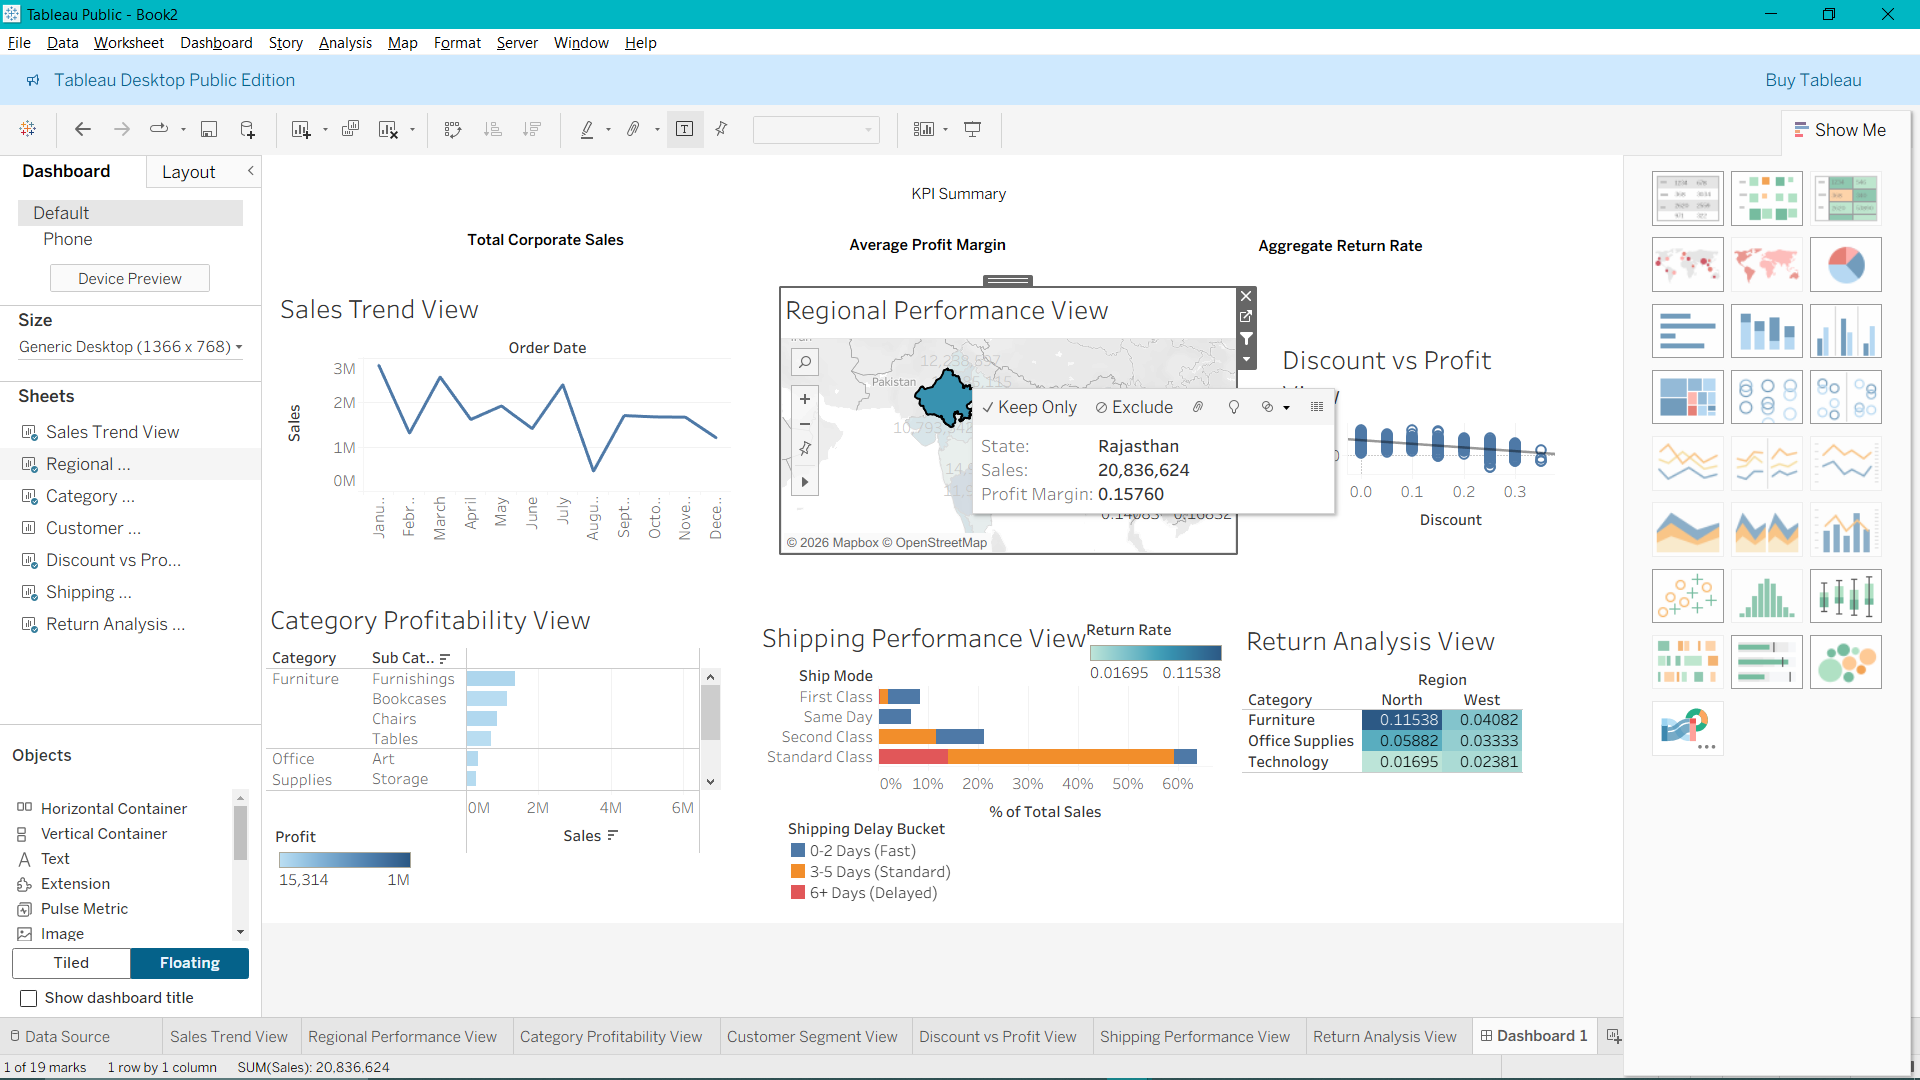

The dashboard page shown, as its layout file describes it:
{"tool":"tableau","page":{"name":"Dashboard 1","canvas":[1366,768],"ordinal":0},"visuals":[{"type":"text","box":[8,8,1350,752]},{"type":"text","box":[646,23,102,30]},{"type":"text","box":[202,70,164,30]},{"type":"text","box":[584,75,164,30]},{"type":"text","box":[993,76,171,30]},{"type":"worksheet","title":"Sales Trend View","mark":"Automatic","rows":["sales"],"cols":["order_date"],"box":[14,132,455,256]},{"type":"worksheet","title":"Regional Performance View","mark":"Automatic","box":[519,133,455,265]},{"type":"worksheet","title":"Discount vs Profit View","mark":"Automatic","rows":["Calculation_1286171301912577"],"cols":["discount"],"box":[1016,183,277,199]},{"type":"legend","title":"Regional Performance View","param":"[federated.1fp9yx91cpcbyr1d26n7z1mhaju0].[usr:Calculation_1286171301912577:qk]","box":[835,305,140,88]},{"type":"worksheet","title":"Category Profitability View","mark":"Automatic","rows":["category","sub_category"],"cols":["sales"],"box":[4,443,455,256]},{"type":"worksheet","title":"Shipping Performance View","mark":"Automatic","rows":["ship_mode"],"cols":["sales"],"box":[496,461,455,256]},{"type":"legend","title":"Return Analysis View","param":"[federated.1fp9yx91cpcbyr1d26n7z1mhaju0].[usr:Calculation_1286171302539268:qk]","box":[824,464,140,88]},{"type":"worksheet","title":"Return Analysis View","mark":"Square","rows":["category"],"cols":["region"],"box":[980,464,333,262]},{"type":"legend","title":"Shipping Performance View","param":"[federated.1fp9yx91cpcbyr1d26n7z1mhaju0].[none:Calculation_1286171302739973:nk]","box":[526,663,168,85]},{"type":"legend","title":"Category Profitability View","param":"[federated.1fp9yx91cpcbyr1d26n7z1mhaju0].[sum:profit:qk]","box":[13,671,140,88]}]}

Visuals, with their boxes in screenshot pixels (x1, y1, x2, y2):
text: 36 26 1907 1068
text: 920 47 1062 88
text: 305 112 532 154
text: 834 119 1062 161
text: 1401 120 1638 162
"Sales Trend View" worksheet: 44 198 675 553
"Regional Performance View" worksheet: 744 199 1375 567
"Discount vs Profit View" worksheet: 1433 269 1817 545
"Regional Performance View" legend: 1182 438 1376 560
"Category Profitability View" worksheet: 31 629 661 984
"Shipping Performance View" worksheet: 713 654 1343 1009
"Return Analysis View" legend: 1167 658 1361 780
"Return Analysis View" worksheet (Square marks): 1383 658 1845 1021
"Shipping Performance View" legend: 754 934 987 1052
"Category Profitability View" legend: 43 945 237 1067
